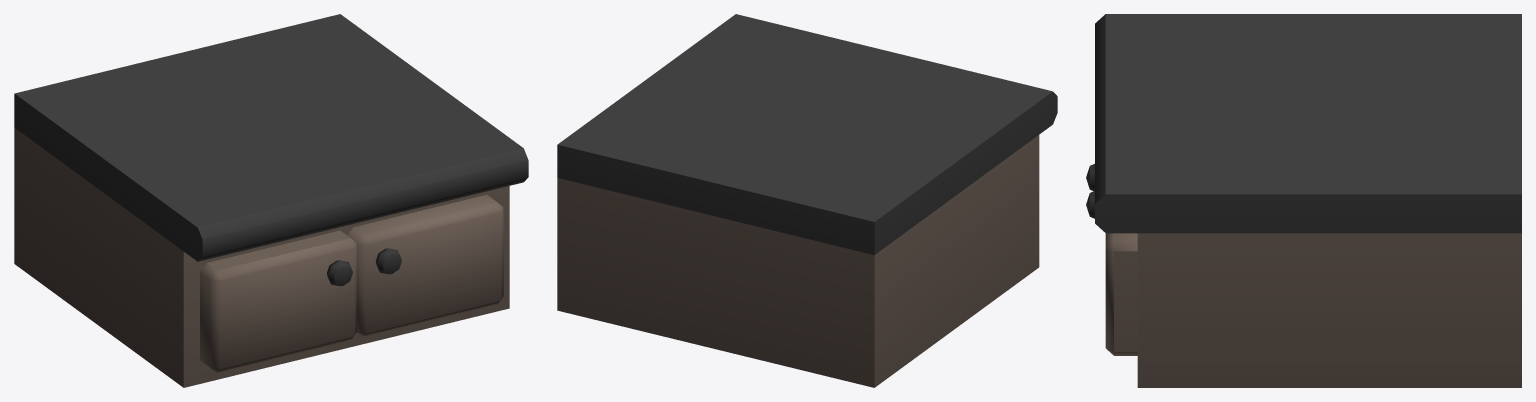
Rendered from kitchencounter_straight_B_styleB.obj.
The picture shows the model from 3 angles, left to right: view 1: azimuth 30°, elevation 25°; view 2: azimuth 150°, elevation 25°; view 3: azimuth 270°, elevation 25°; orthographic projection. The views are drawn at different scales.
Parts seen in each view (by area): view 1: kitchencounter_straight_B_styleB_Cube.024; view 2: kitchencounter_straight_B_styleB_Cube.024; view 3: kitchencounter_straight_B_styleB_Cube.024.
Part boxes in pixels (box(x1,y1,x2,y2)): kitchencounter_straight_B_styleB_Cube.024: box(14, 14, 528, 387); kitchencounter_straight_B_styleB_Cube.024: box(557, 14, 1057, 387); kitchencounter_straight_B_styleB_Cube.024: box(1086, 14, 1521, 387).
Bounding box in the file's own units: 2 × 1 × 2.04.
1 material, 1 textured.
